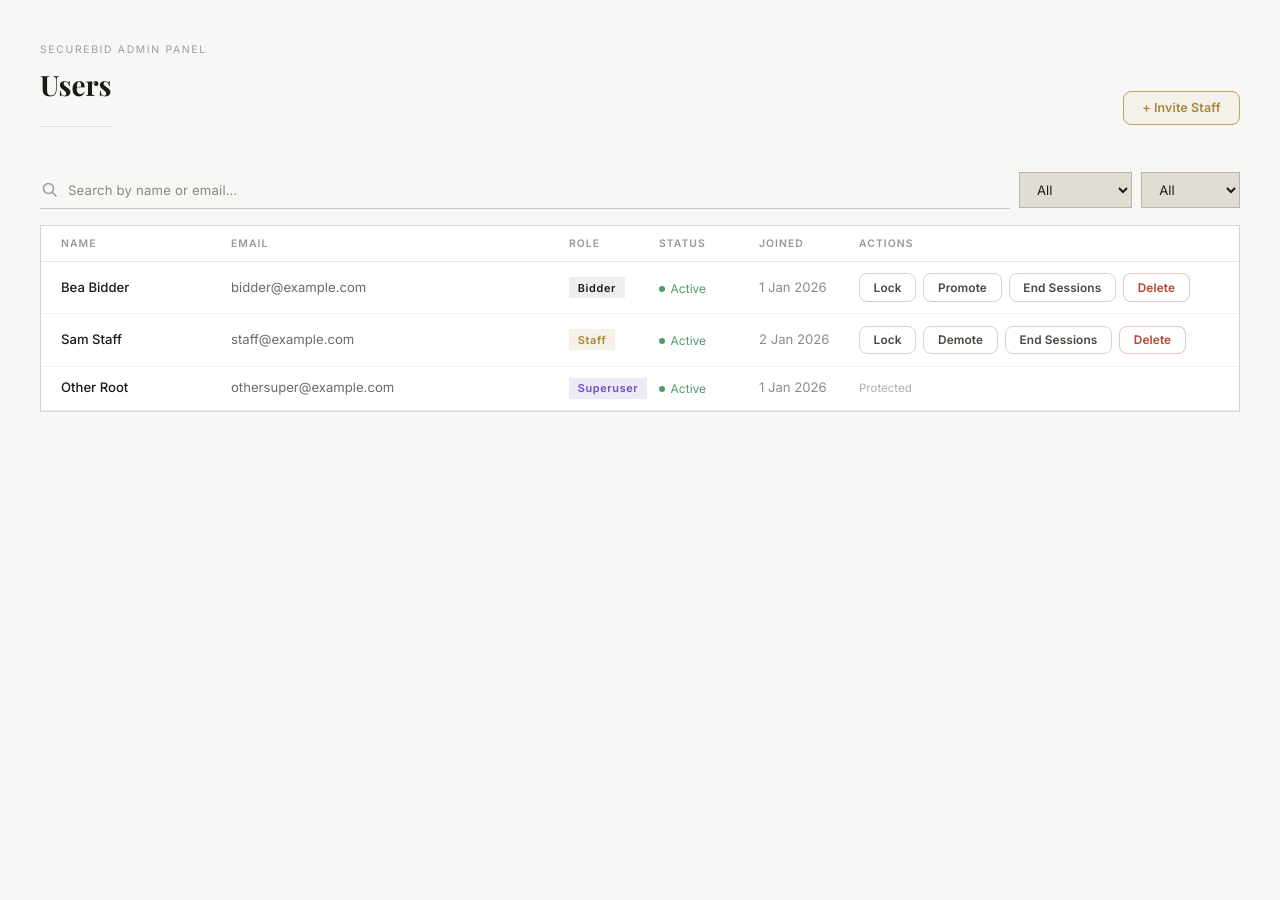
AdminUsers — Delete two-step confirmation › requires a Confirm click before deleting, and Cancel aborts it
Expected: the text "bidder@example.com" is shown, [211,262,549,314]
Click the button "Delete" in the row of "Bea Bidder".
click(1156, 288)  # box [1123,273,1190,302]
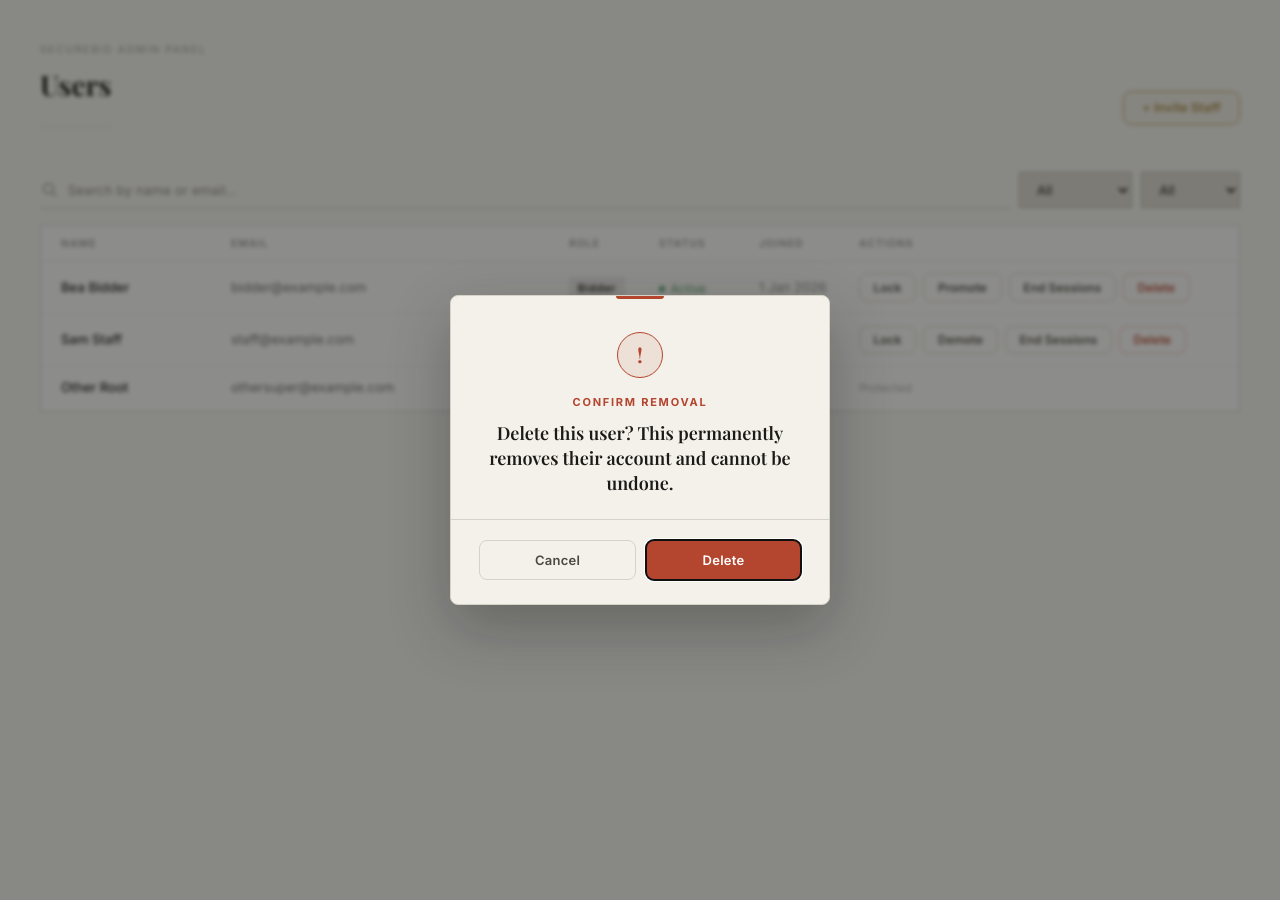
Click the button "Cancel".
click(558, 560)  # box [479,540,636,580]
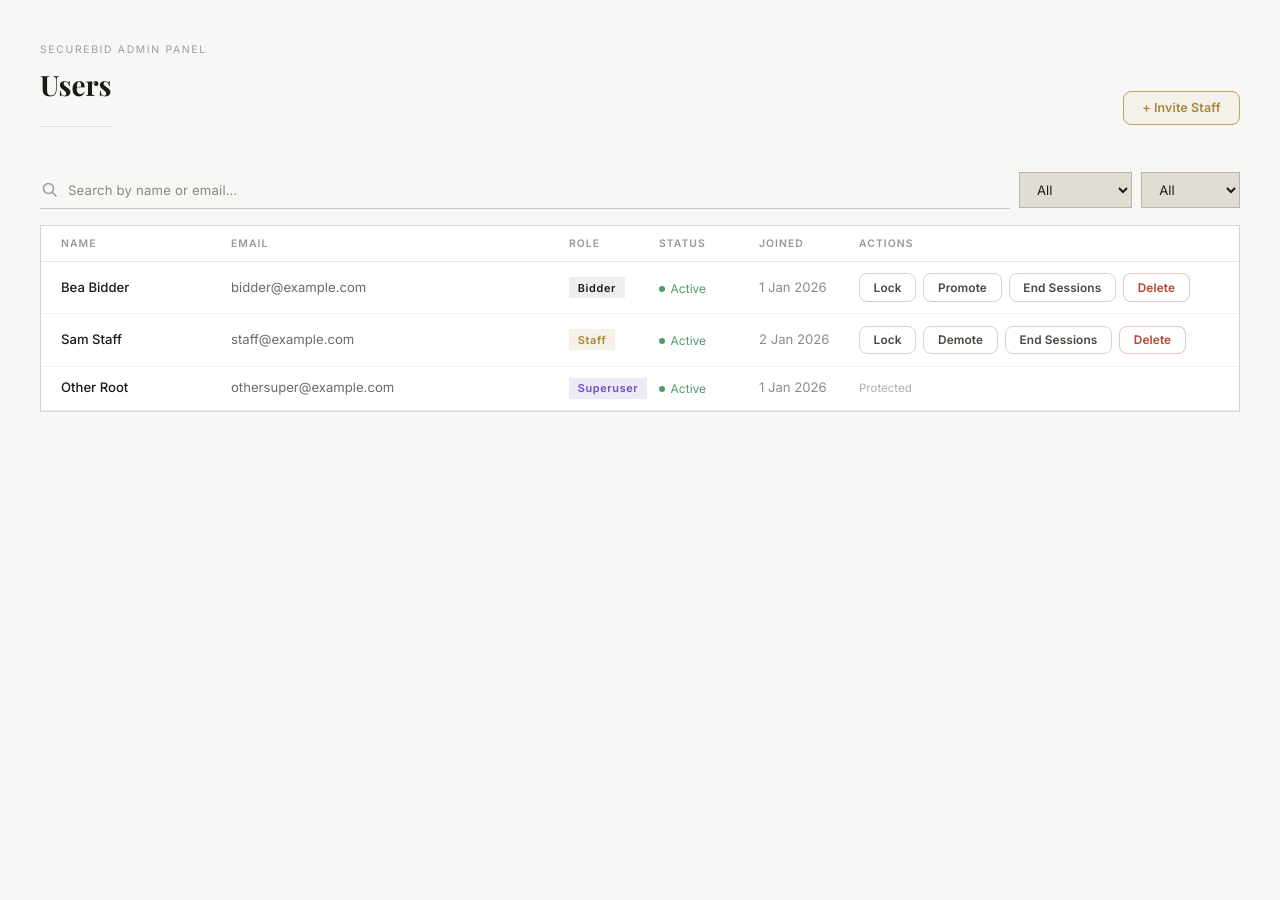
Expected: the button "Delete" in the row of "Bea Bidder" is shown, [1123,273,1190,302]
Now the text "Delete this user? This permanently removes their account and cannot be undone." is gone
